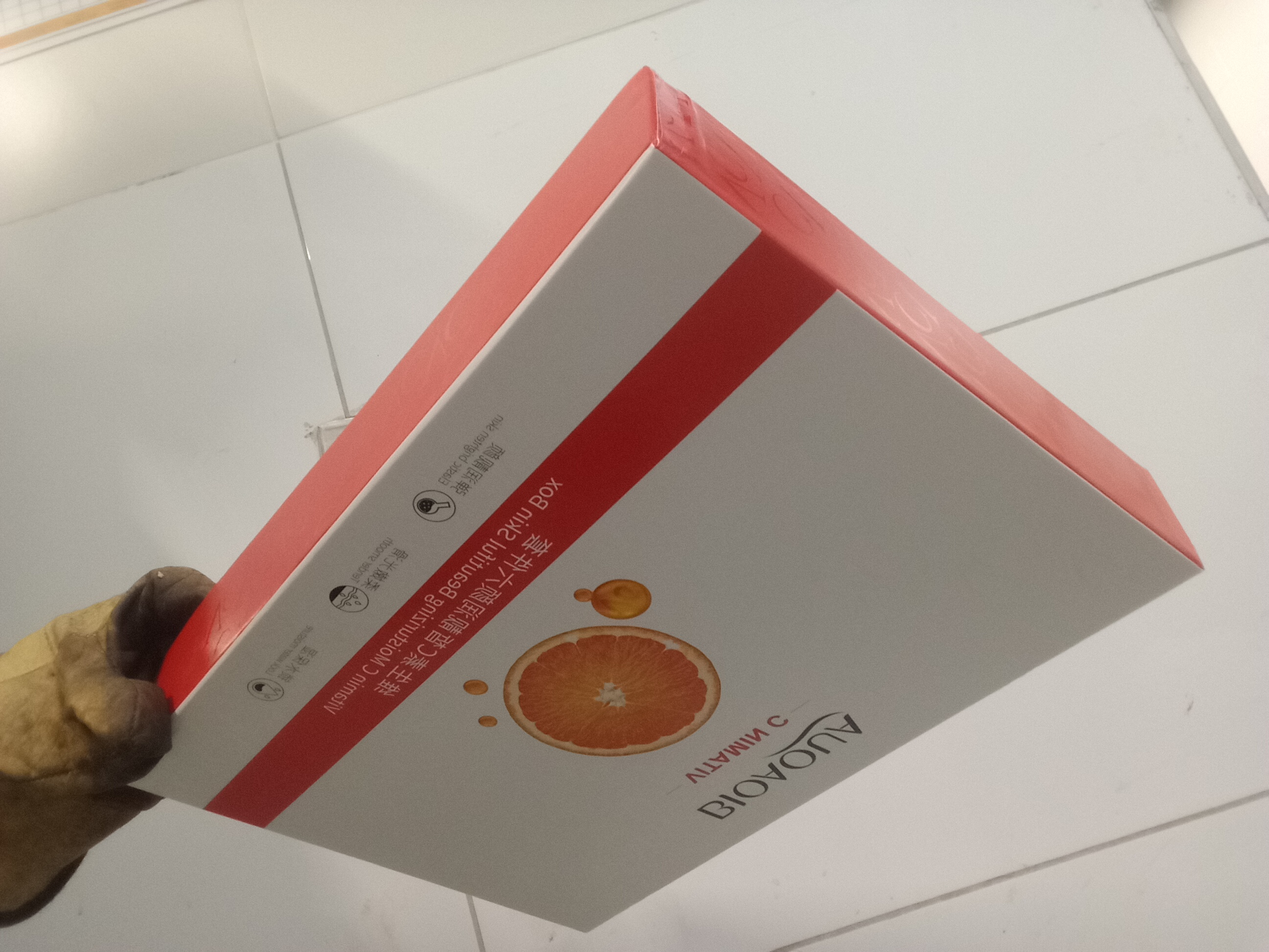Carton: (121, 68, 1200, 933)
